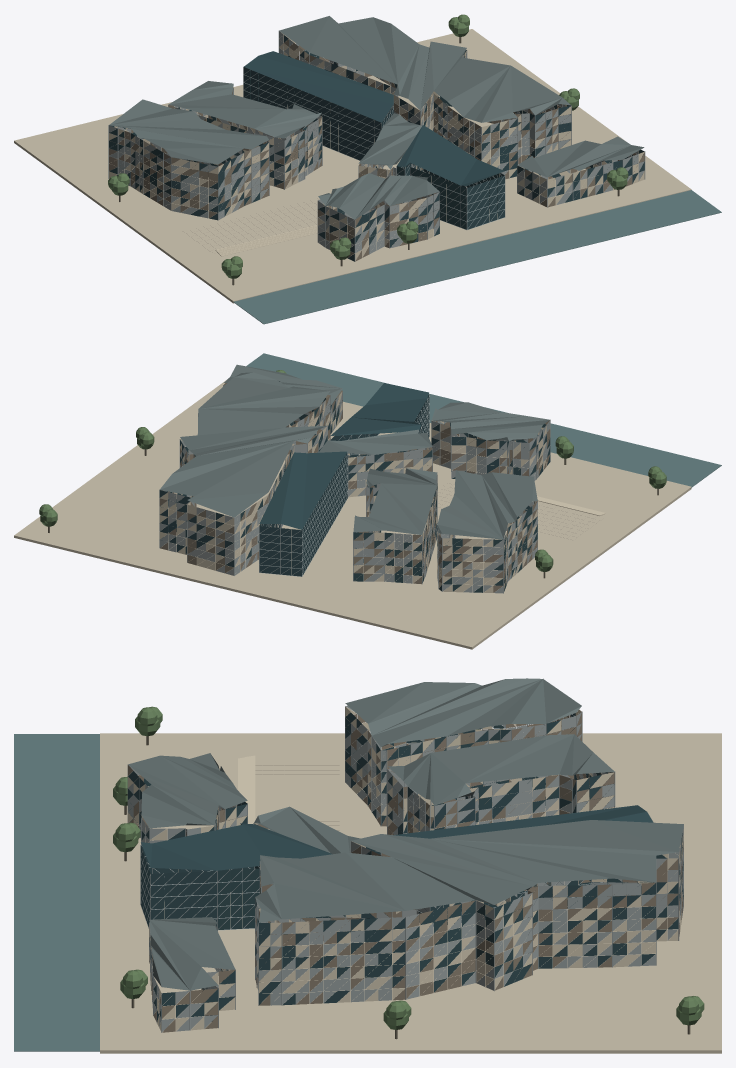
Rendered from federation.glb.
3 renders of one model, top to bottom at view 1: azimuth 30°, elevation 25°; view 2: azimuth 150°, elevation 25°; view 3: azimuth 270°, elevation 25°, orthographic. The views are drawn at different scales.
Parts seen in each view (by area): view 1: federation_path, federation_darkroof, federation_glass, federation_steel, federation_water, federation_lightstone, federation_darkstone, federation_leaf; view 2: federation_path, federation_darkroof, federation_glass, federation_steel, federation_lightstone, federation_water, federation_darkstone, federation_leaf; view 3: federation_path, federation_darkroof, federation_glass, federation_steel, federation_water, federation_darkstone, federation_lightstone, federation_leaf.
Boxes of the visible parts, x1=… form: federation_path: x1=14, y1=29, x2=691, y2=303; federation_darkroof: x1=109, y1=16, x2=644, y2=219; federation_glass: x1=109, y1=35, x2=644, y2=261; federation_steel: x1=108, y1=31, x2=645, y2=261; federation_water: x1=231, y1=190, x2=721, y2=324; federation_lightstone: x1=109, y1=32, x2=644, y2=260; federation_darkstone: x1=109, y1=39, x2=644, y2=261; federation_leaf: x1=108, y1=14, x2=628, y2=278; federation_path: x1=14, y1=380, x2=691, y2=649; federation_darkroof: x1=159, y1=364, x2=549, y2=539; federation_glass: x1=159, y1=381, x2=550, y2=592; federation_steel: x1=159, y1=381, x2=550, y2=593; federation_lightstone: x1=159, y1=390, x2=605, y2=592; federation_water: x1=246, y1=353, x2=721, y2=488; federation_darkstone: x1=159, y1=383, x2=550, y2=592; federation_leaf: x1=39, y1=370, x2=666, y2=571; federation_path: x1=100, y1=733, x2=721, y2=1053; federation_darkroof: x1=128, y1=678, x2=683, y2=990; federation_glass: x1=128, y1=712, x2=683, y2=1021; federation_steel: x1=127, y1=678, x2=683, y2=1032; federation_water: x1=14, y1=734, x2=99, y2=1051; federation_darkstone: x1=128, y1=713, x2=683, y2=1032; federation_lightstone: x1=128, y1=706, x2=683, y2=1031; federation_leaf: x1=113, y1=706, x2=704, y2=1029.
Size of the model in its own units: 10.25 by 1.39 by 9.68.
